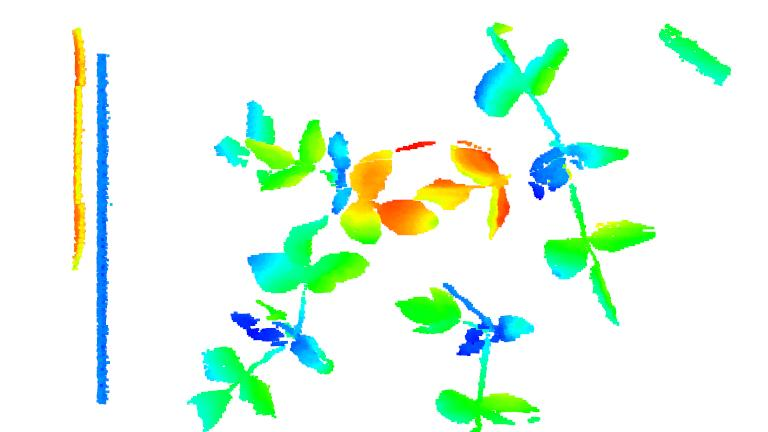mungbean: (431, 20, 661, 329), (183, 219, 370, 432), (221, 101, 442, 241), (397, 281, 546, 432)
